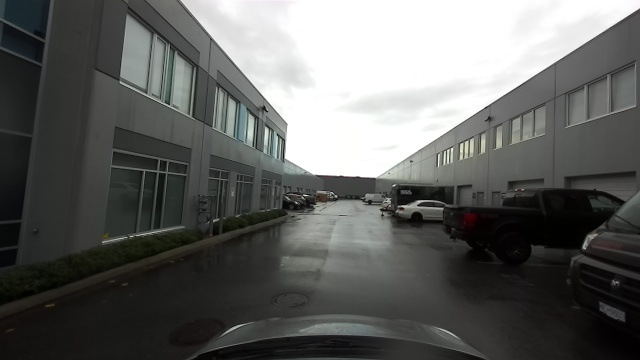car: (450, 175, 624, 266), (393, 198, 441, 224), (362, 192, 386, 204), (284, 194, 299, 209)
